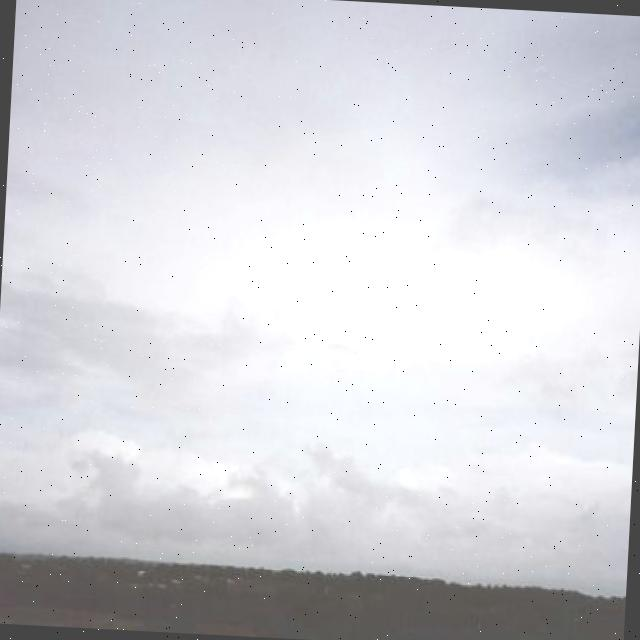Ns: (1, 64, 640, 566)
